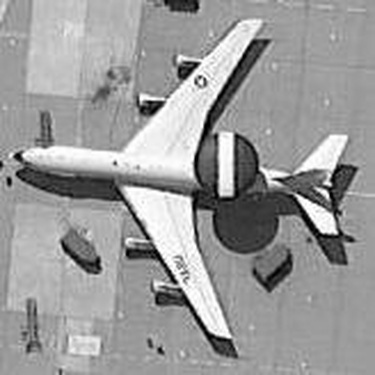airplane: (7, 12, 357, 366)
